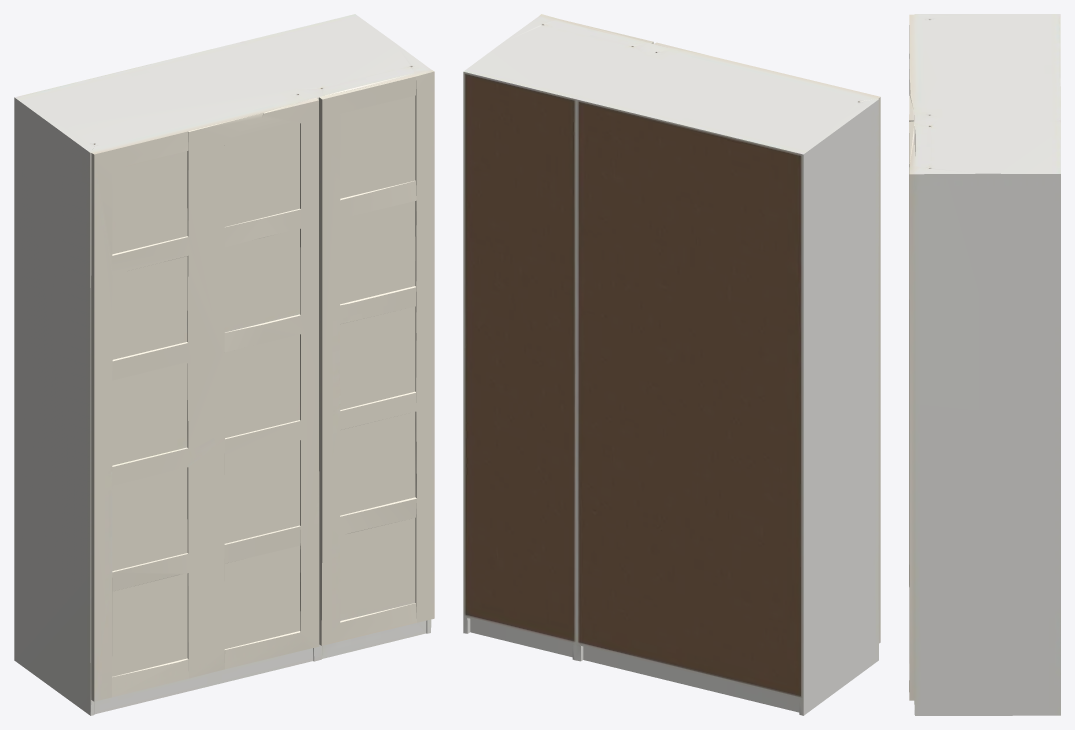
The picture shows the model from 3 angles, left to right: view 1: azimuth 30°, elevation 25°; view 2: azimuth 150°, elevation 25°; view 3: azimuth 270°, elevation 25°; orthographic projection. The views are drawn at different scales.
Visible parts, largest first — view 1: ProcessedMeshNode; view 2: ProcessedMeshNode; view 3: ProcessedMeshNode.
Boxes of the visible parts, box(x1,y1,x2,y2) form: ProcessedMeshNode: box(14, 14, 434, 715); ProcessedMeshNode: box(463, 14, 880, 715); ProcessedMeshNode: box(909, 14, 1060, 715).
Size of the model in its own units: 1.5 by 2.36 by 0.6.
Materials: 1 (1 with a texture image).
